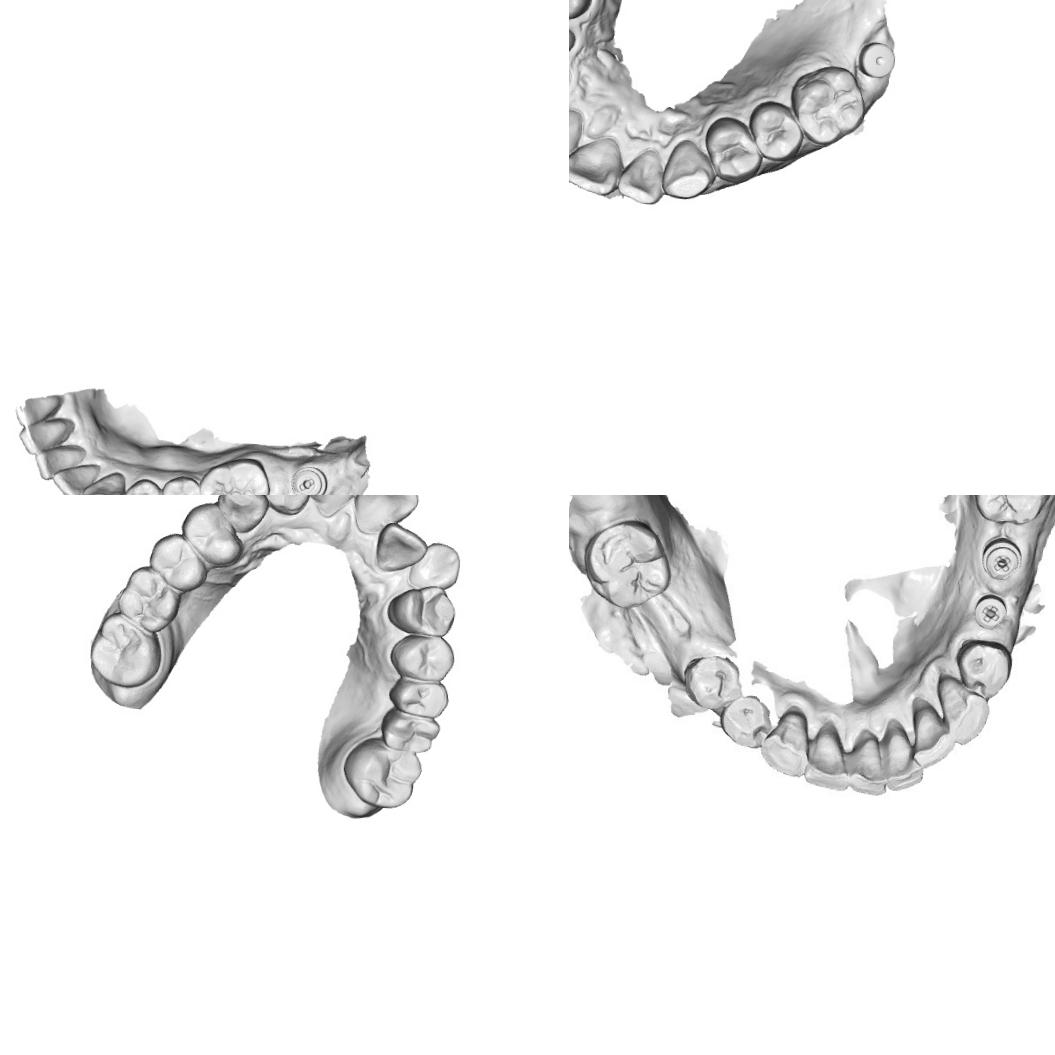canine: (930, 668, 992, 748), (384, 582, 458, 638), (757, 708, 814, 778), (658, 136, 718, 201), (214, 495, 271, 535), (78, 469, 125, 495)
implant: (856, 40, 896, 79)
implant_minus: (289, 463, 328, 495)
implant_plus: (980, 533, 1028, 583), (968, 588, 1012, 634)
incisor: (801, 719, 850, 791), (569, 132, 622, 196), (882, 719, 926, 794), (373, 519, 430, 575), (350, 495, 420, 538), (406, 539, 462, 592), (910, 702, 954, 768), (616, 146, 664, 206), (846, 729, 886, 796), (16, 415, 68, 457), (32, 443, 86, 483), (49, 460, 100, 495), (13, 392, 60, 429), (306, 495, 370, 519), (259, 495, 313, 517), (569, 105, 585, 178)
molar: (580, 516, 675, 611), (787, 62, 868, 148), (339, 735, 424, 811), (86, 609, 164, 691), (114, 562, 182, 634), (196, 454, 272, 495), (378, 706, 441, 754), (967, 495, 1053, 527)
premolar: (178, 499, 246, 568), (700, 114, 764, 184), (146, 529, 211, 594), (746, 98, 805, 164), (958, 637, 1018, 699), (683, 652, 743, 714), (387, 632, 456, 681), (386, 674, 450, 720), (721, 696, 775, 748), (158, 473, 202, 495), (119, 475, 163, 495)
